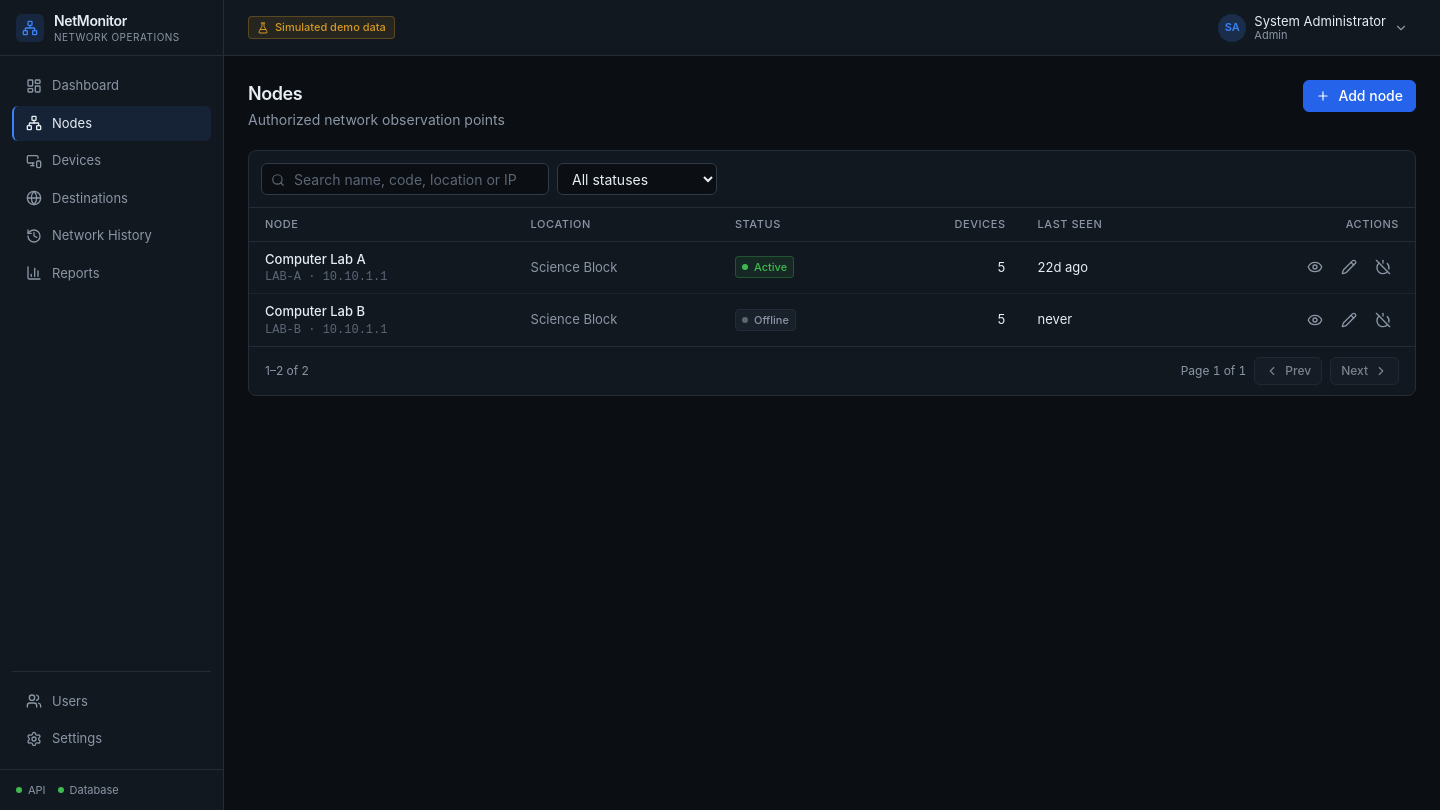
routing › ends up on the login page when the session is rejected mid-use
The width and height of the screenshot is (1440, 810).
Click the link "Dashboard": (73, 85) [26,77,119,94]
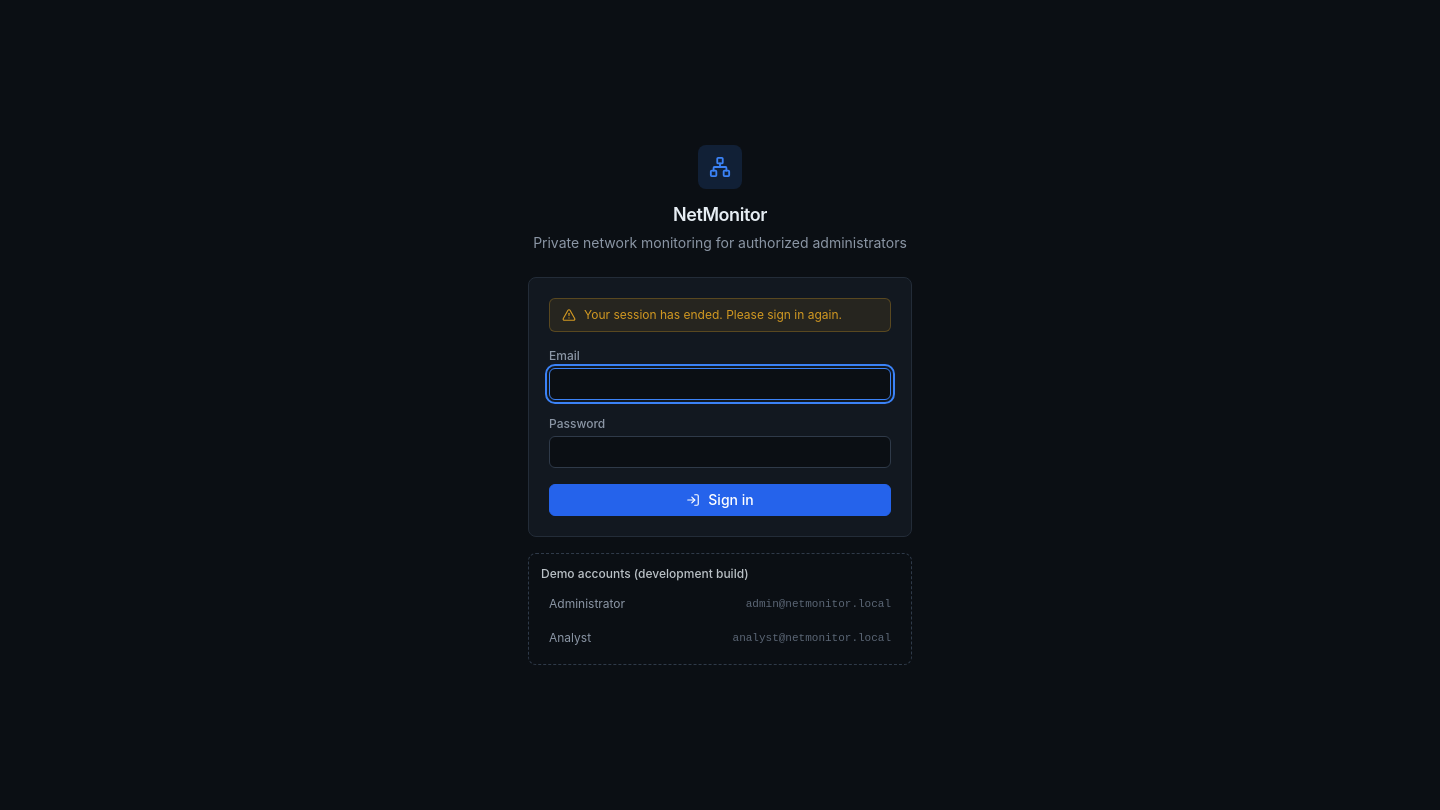
Expected: the button "Sign in" is shown, [549,484,891,516]
Expected: the text "Your session has ended. Please sign in again." is shown, [549,298,891,332]
